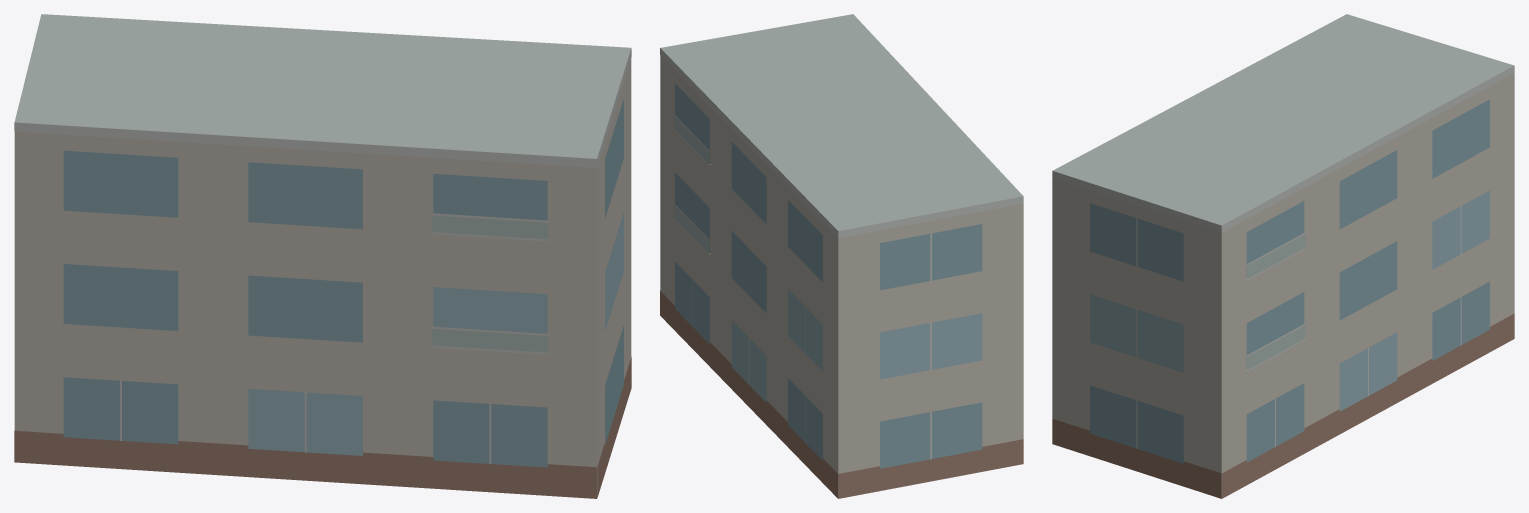
The model's file is survey-upis-32955189.glb.
3 renders of one model, left to right at view 1: azimuth 30°, elevation 25°; view 2: azimuth 150°, elevation 25°; view 3: azimuth 270°, elevation 25°, orthographic. The views are drawn at different scales.
Parts seen in each view (by area): view 1: survey-upis-32955189.tmp; view 2: survey-upis-32955189.tmp; view 3: survey-upis-32955189.tmp.
Boxes of the visible parts, x1,y1,x2,y2 form: survey-upis-32955189.tmp: (14,14,631,498); survey-upis-32955189.tmp: (660,14,1023,498); survey-upis-32955189.tmp: (1052,14,1514,498).
Size of the model in its own units: 15.2 by 9.15 by 14.03.
